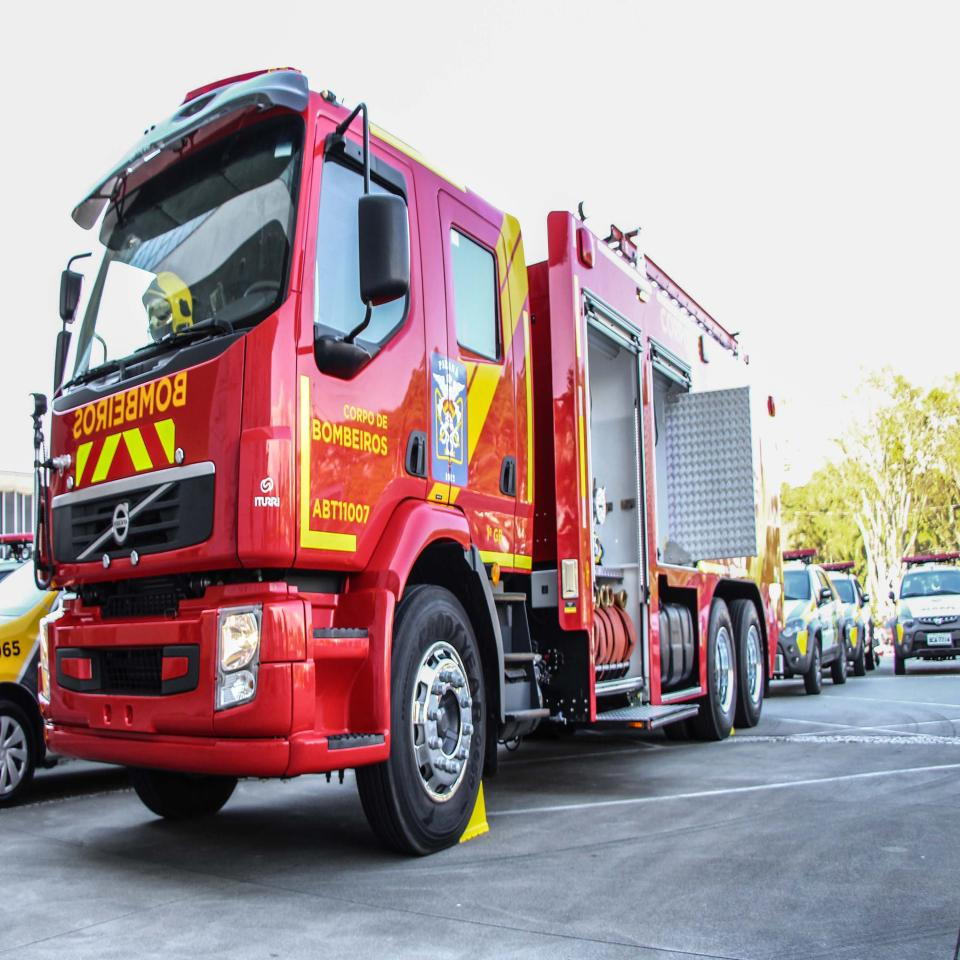viatura: (32, 67, 785, 857)
